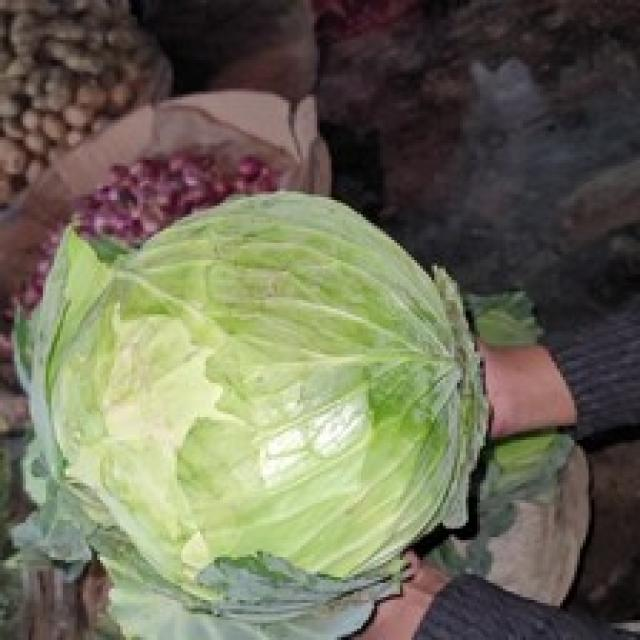Cabbage: (9, 186, 492, 637)
